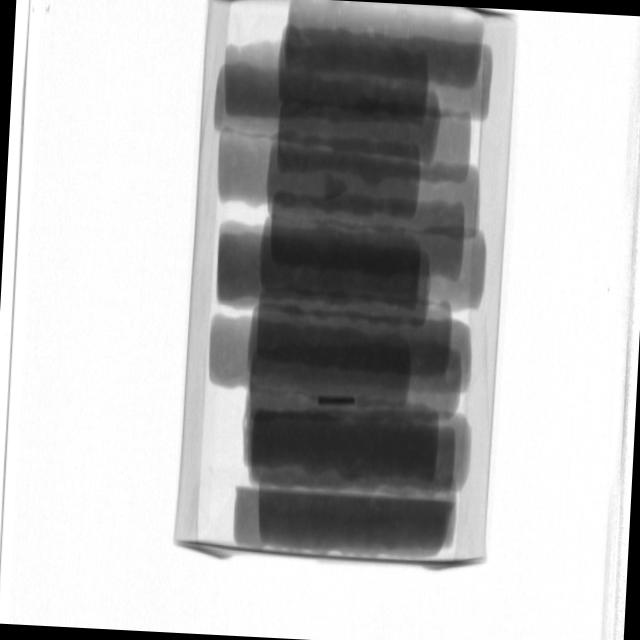ym: (322, 171, 348, 205), (319, 398, 356, 409)
